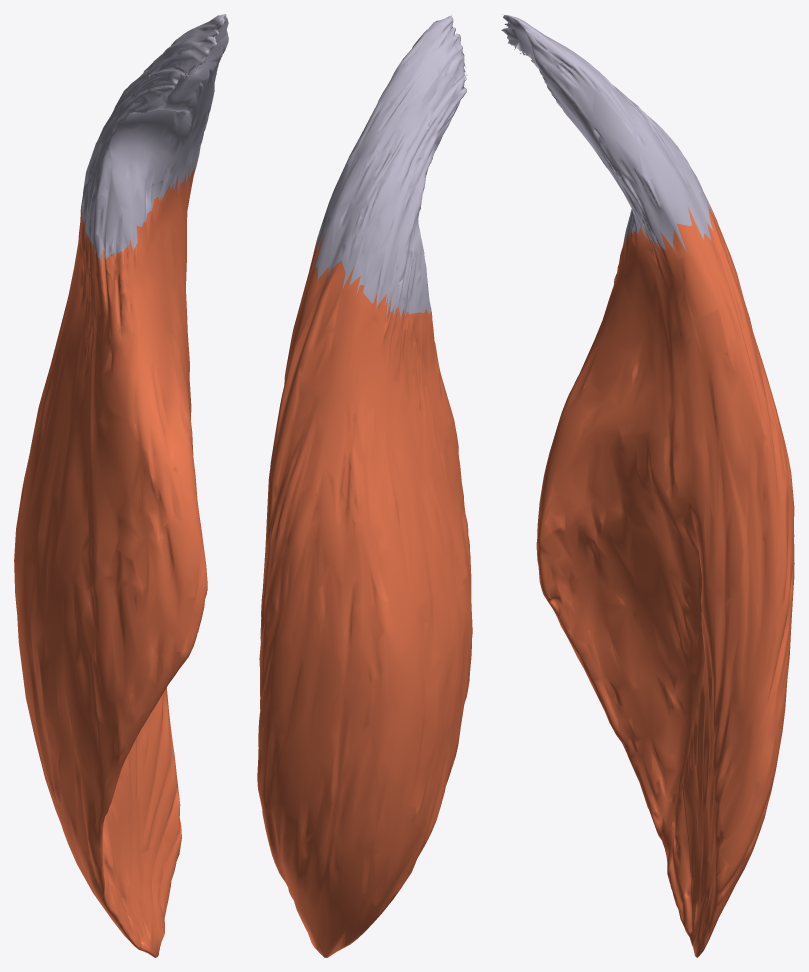
File: Gastrocnemius_medial_head_left.glb
3 renders of one model, left to right at view 1: azimuth 30°, elevation 25°; view 2: azimuth 150°, elevation 25°; view 3: azimuth 270°, elevation 25°, orthographic. The views are drawn at different scales.
Parts seen in each view (by area): view 1: Medial_head_of_gastrocnemius.l_Generated_Mesh_From_X3D.355; view 2: Medial_head_of_gastrocnemius.l_Generated_Mesh_From_X3D.355; view 3: Medial_head_of_gastrocnemius.l_Generated_Mesh_From_X3D.355.
Part boxes in pixels (<box>): Medial_head_of_gastrocnemius.l_Generated_Mesh_From_X3D.355: <box>14,14,228,957</box>; Medial_head_of_gastrocnemius.l_Generated_Mesh_From_X3D.355: <box>257,16,472,957</box>; Medial_head_of_gastrocnemius.l_Generated_Mesh_From_X3D.355: <box>501,14,794,957</box>.
Size of the model in its own units: 0.0511 by 0.2998 by 0.0859.
